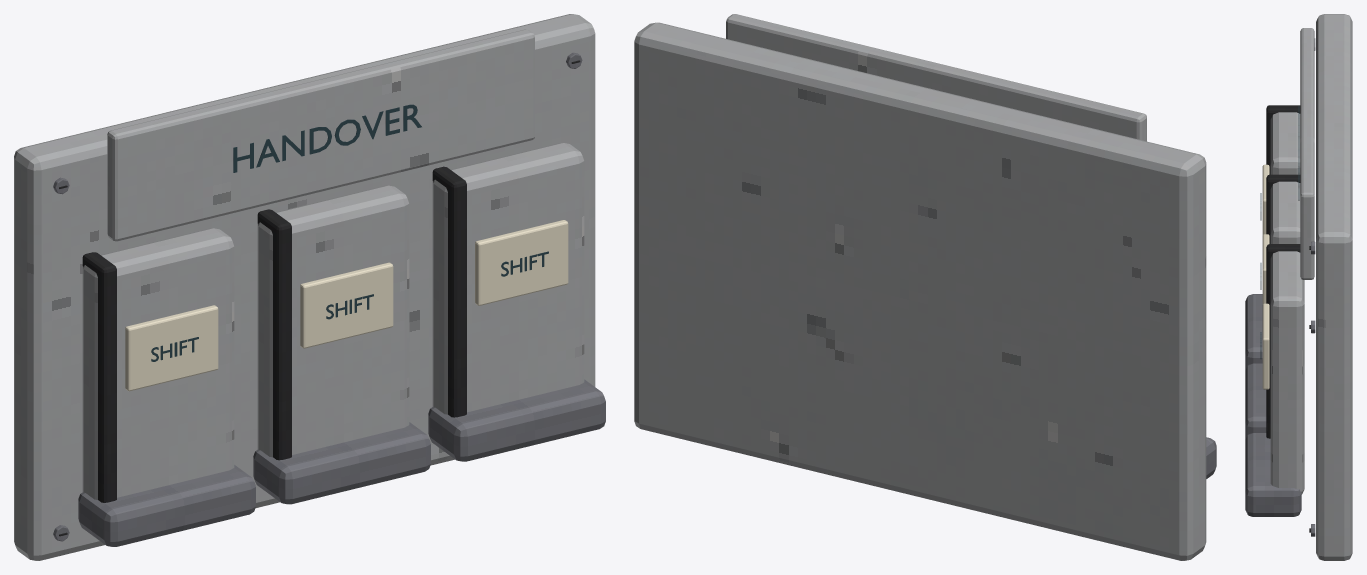
File: lbd_bridge_handover.glb
3 renders of one model, left to right at view 1: azimuth 30°, elevation 25°; view 2: azimuth 150°, elevation 25°; view 3: azimuth 270°, elevation 25°, orthographic. The views are drawn at different scales.
Parts seen in each view (by area): view 1: bridge_handover__mount_003, bridge_handover__header_067, bridge_handover__folio_022, bridge_handover__folio_037, bridge_handover__folio_052, bridge_handover__retaining lip_064, bridge_handover__retaining lip_049, bridge_handover__retaining lip_034, bridge_handover__folio label_028, bridge_handover__folio label_043, bridge_handover__folio label_058, bridge_handover__folio spine_055 (+3 smaller); view 2: bridge_handover__mount_003, bridge_handover__header_067; view 3: bridge_handover__mount_003, bridge_handover__folio_052, bridge_handover__header_067, bridge_handover__retaining lip_064, bridge_handover__folio_022, bridge_handover__folio_037, bridge_handover__retaining lip_049, bridge_handover__retaining lip_034, bridge_handover__folio spine_055, bridge_handover__folio label_058, bridge_handover__folio spine_040, bridge_handover__folio spine_025 (+3 smaller).
Boxes of the visible parts, <box> form: bridge_handover__mount_003: <box>14,14,595,560</box>; bridge_handover__header_067: <box>107,29,534,241</box>; bridge_handover__folio_022: <box>82,228,234,499</box>; bridge_handover__folio_037: <box>257,185,409,457</box>; bridge_handover__folio_052: <box>432,143,584,414</box>; bridge_handover__retaining lip_064: <box>428,379,605,461</box>; bridge_handover__retaining lip_049: <box>253,422,430,504</box>; bridge_handover__retaining lip_034: <box>78,465,255,546</box>; bridge_handover__folio label_028: <box>125,305,218,391</box>; bridge_handover__folio label_043: <box>300,262,393,348</box>; bridge_handover__folio label_058: <box>475,220,568,305</box>; bridge_handover__folio spine_055: <box>432,166,466,417</box>; bridge_handover__mount_003: <box>634,22,1206,560</box>; bridge_handover__header_067: <box>726,14,1146,141</box>; bridge_handover__mount_003: <box>1316,14,1352,560</box>; bridge_handover__folio_052: <box>1270,251,1304,494</box>; bridge_handover__header_067: <box>1300,28,1314,279</box>; bridge_handover__retaining lip_064: <box>1245,433,1301,516</box>; bridge_handover__folio_022: <box>1270,112,1300,174</box>; bridge_handover__folio_037: <box>1270,181,1300,243</box>; bridge_handover__retaining lip_049: <box>1245,363,1266,439</box>; bridge_handover__retaining lip_034: <box>1245,294,1262,369</box>; bridge_handover__folio spine_055: <box>1266,244,1300,438</box>; bridge_handover__folio label_058: <box>1262,303,1269,389</box>; bridge_handover__folio spine_040: <box>1266,174,1300,243</box>; bridge_handover__folio spine_025: <box>1266,105,1300,174</box>.
Size of the model in its own units: 0.94 by 0.665 by 0.19.
Materials: 6 (4 with a texture image).
